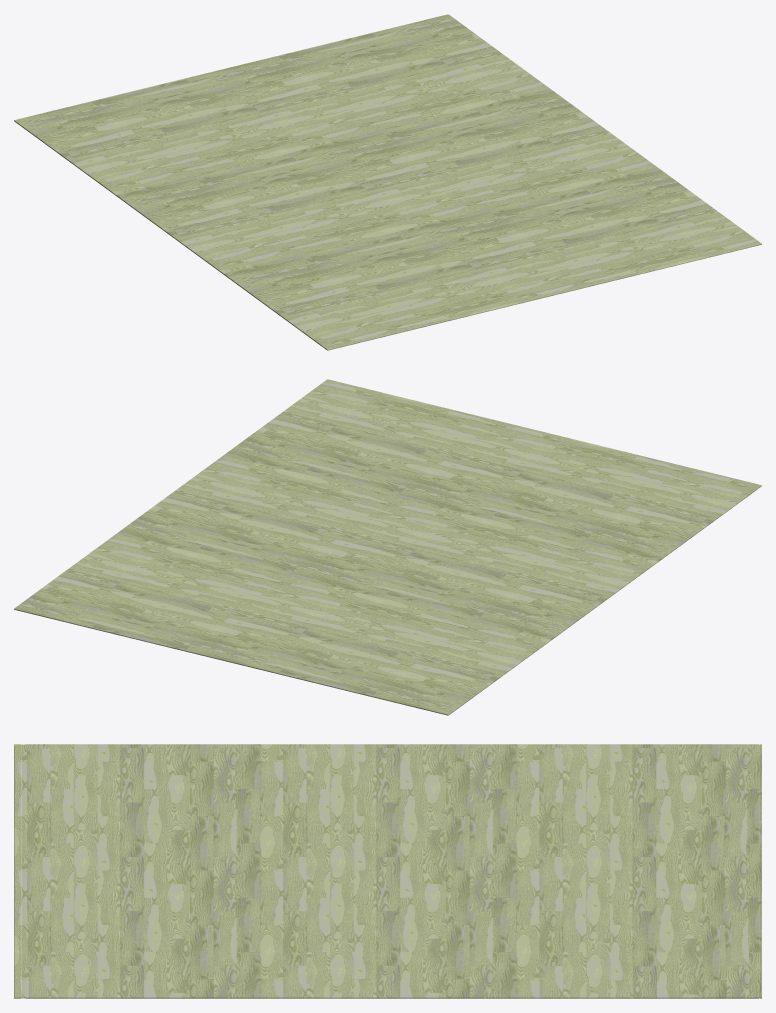
The model's file is Project Name.glb.
3 renders of one model, top to bottom at view 1: azimuth 30°, elevation 25°; view 2: azimuth 150°, elevation 25°; view 3: azimuth 270°, elevation 25°, orthographic. The views are drawn at different scales.
Parts seen in each view (by area): view 1: 51072_StrellaRug_Grey; view 2: 51072_StrellaRug_Grey; view 3: 51072_StrellaRug_Grey.
Boxes of the visible parts, x1,y1,x2,y2 form: 51072_StrellaRug_Grey: (14,14,761,350); 51072_StrellaRug_Grey: (14,379,761,715); 51072_StrellaRug_Grey: (14,744,761,998).
Size of the model in its own units: 2.44 by 0.00716 by 3.05.
1 material, 1 textured.
